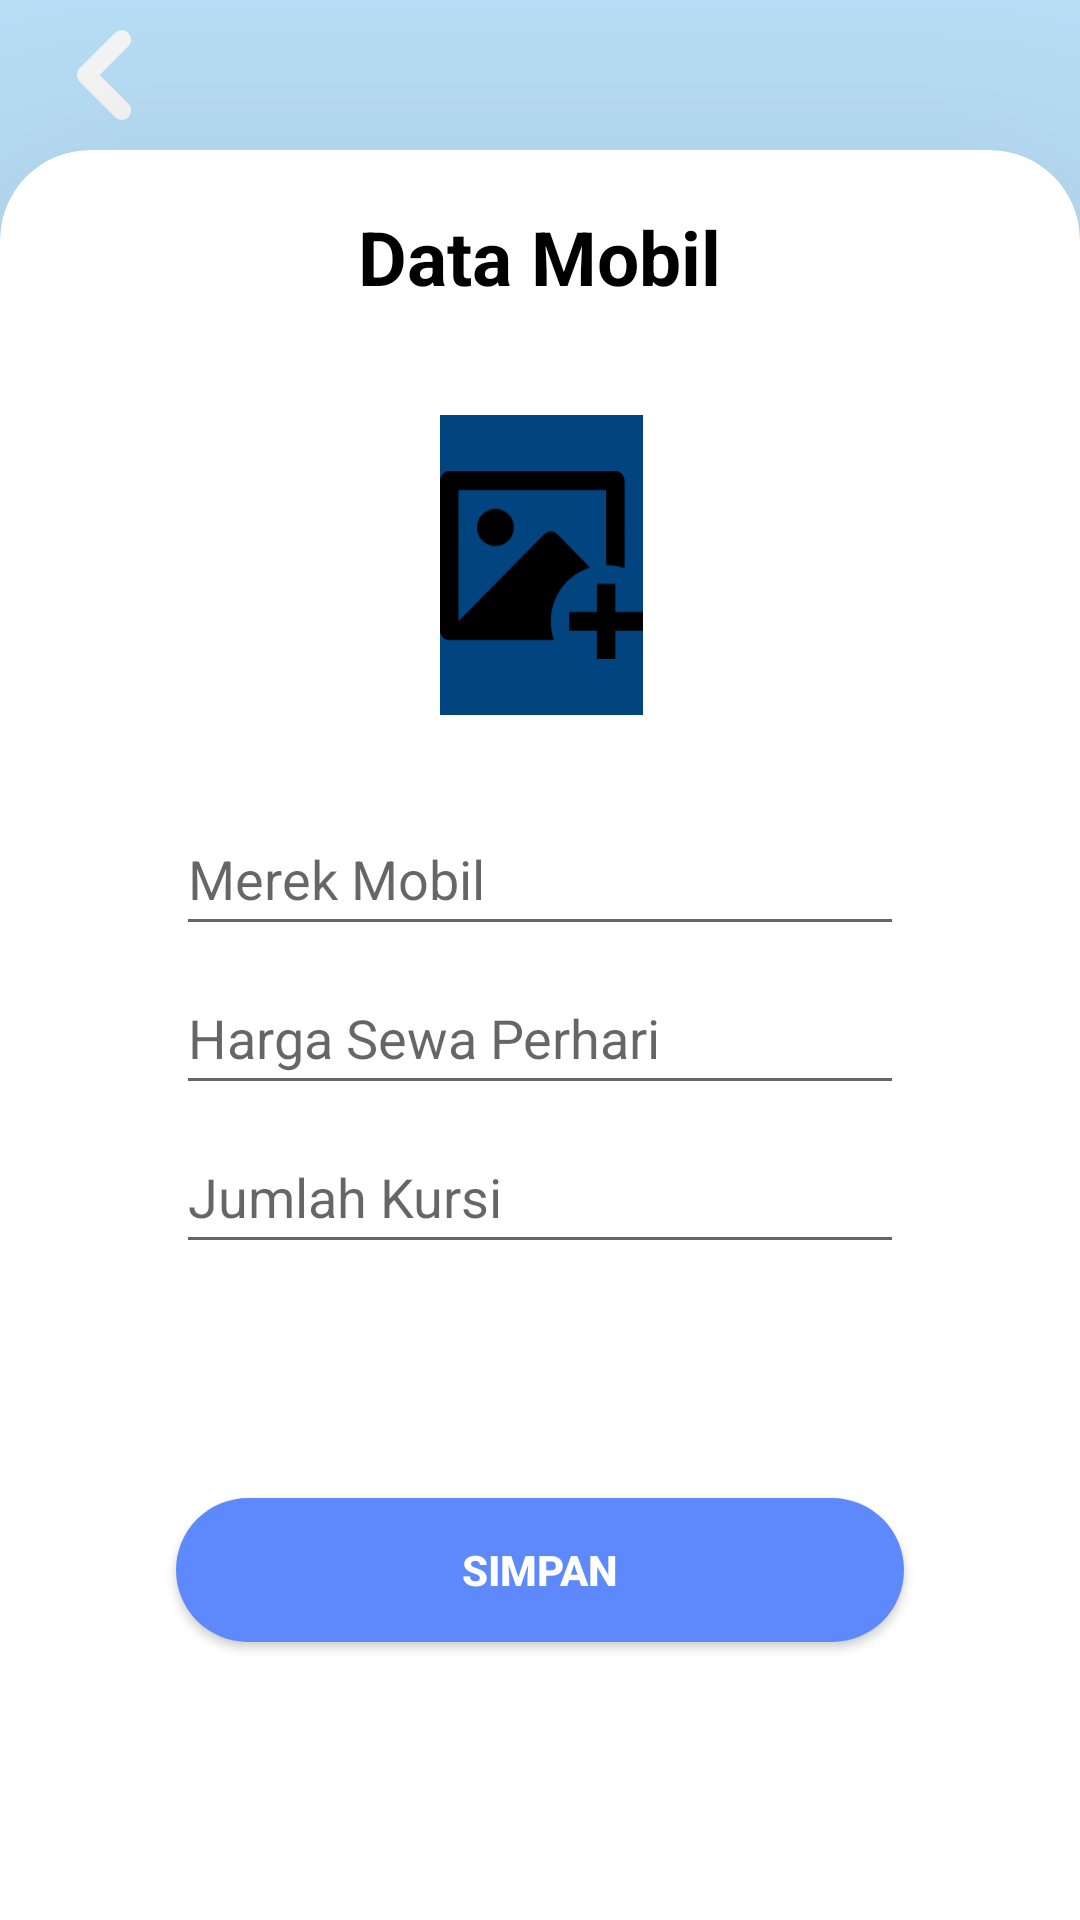

Where to tap for icons on this 1080px×1920px app screen, as point (x, y):
addimage: point (541, 565)
back: point (104, 75)
